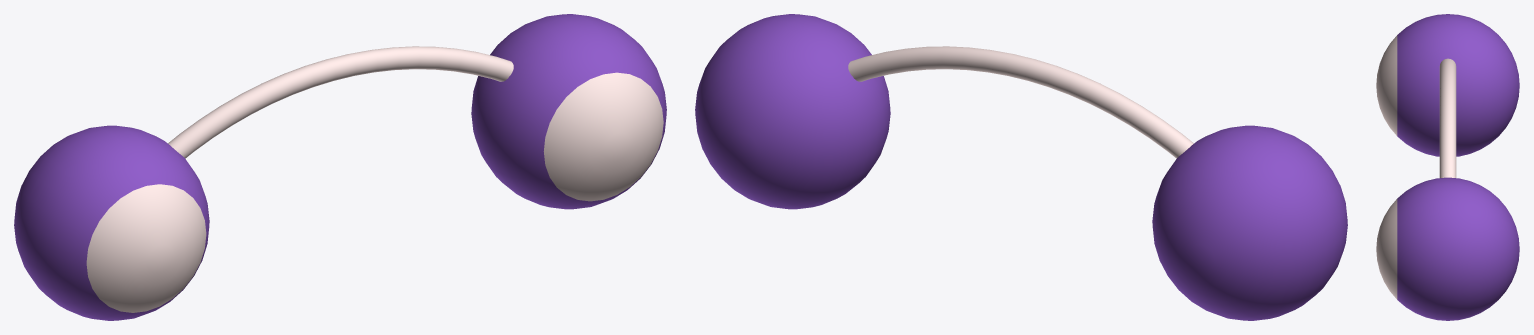
The model's file is Public_14_Barbell_1.glb.
3 renders of one model, left to right at view 1: azimuth 30°, elevation 25°; view 2: azimuth 150°, elevation 25°; view 3: azimuth 270°, elevation 25°, orthographic. The views are drawn at different scales.
Visible parts, largest first — view 1: Public_14_Barbell_1; view 2: Public_14_Barbell_1; view 3: Public_14_Barbell_1.
Boxes of the visible parts, x1,y1,x2,y2 form: Public_14_Barbell_1: (14,14,666,320); Public_14_Barbell_1: (695,14,1347,320); Public_14_Barbell_1: (1376,14,1519,320).
Bounding box in the file's own units: 1.55 × 0.4715 × 0.4205.
1 material, 1 textured.
